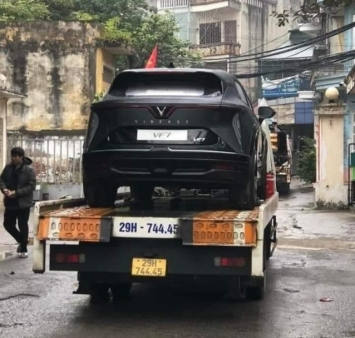number_plate: (129, 256, 169, 280)
